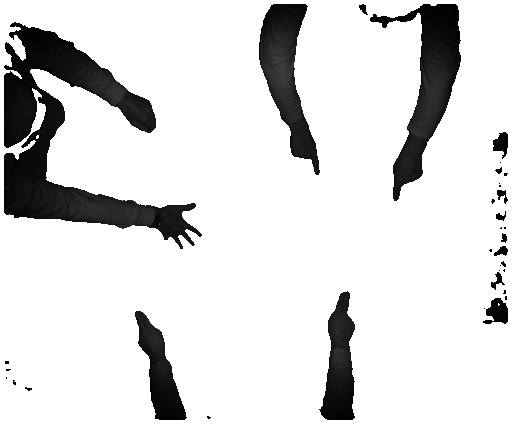fist: (123, 97, 159, 135)
hand: (160, 200, 207, 255), (128, 304, 167, 357), (392, 152, 423, 207), (328, 288, 359, 341), (288, 129, 319, 175)
